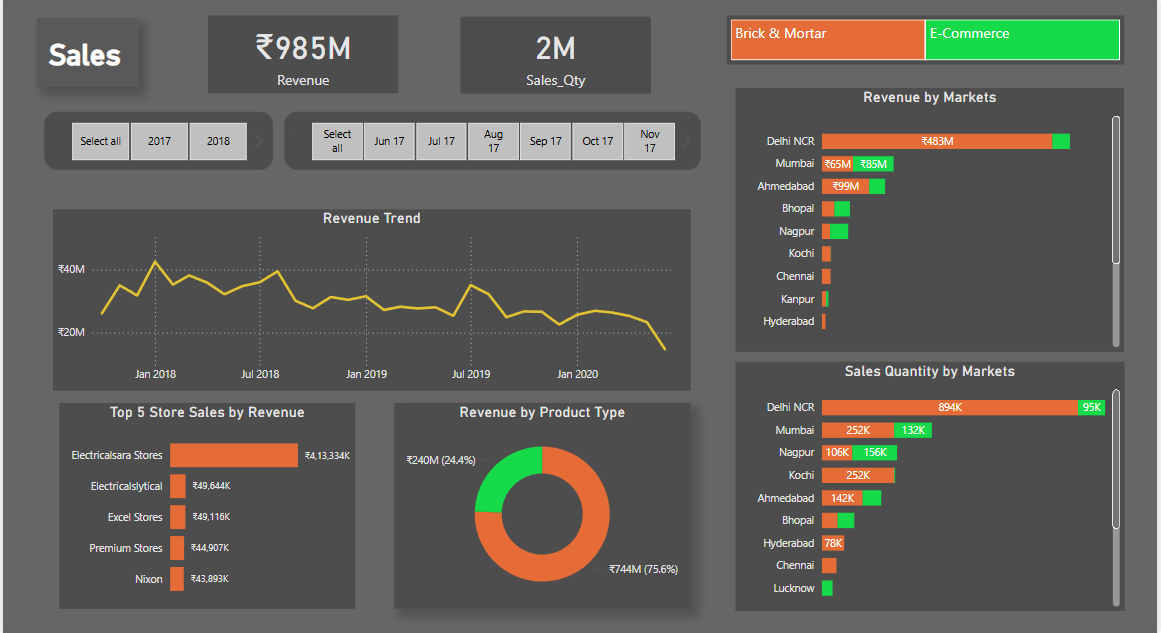

The page's visual inventory and layout, read from the dashboard file:
{"tool":"powerbi","page":{"name":"Sales Insights","canvas":[1319,727],"ordinal":0},"visuals":[{"type":"card","fields":{"Values":["base measures.revenue"]},"box":[233.8,20.7,218,88.9],"z":7000},{"type":"card","fields":{"Values":["base measures.sales_qty"]},"box":[522.4,21.9,218,87.7],"z":8000},{"type":"barChart","title":"Revenue by Markets","fields":{"Category":["sales markets.markets_name"],"Y":["base measures.revenue"],"Series":["sales customers.customer_type"]},"box":[837.1,102.9,444.3,301.4],"z":9000},{"type":"barChart","title":"Sales Quantity by Markets","fields":{"Category":["sales markets.markets_name"],"Y":["base measures.sales_qty"],"Series":["sales customers.customer_type"]},"box":[836.6,415.3,444.5,285],"z":10000},{"type":"lineChart","title":"Revenue Trend","fields":{"Y":["base measures.revenue"],"Category":["sales date.cy_date"]},"box":[57.1,241.4,728.6,207.1],"z":11000},{"type":"donutChart","title":"Revenue by Product Type","fields":{"Category":["sales customers.customer_type"],"Y":["base measures.revenue"]},"box":[446.9,462.7,338.5,235],"z":12000},{"type":"textbox","box":[38.2,24,169.7,62.2],"z":13000},{"type":"barChart","title":"Top 5 Store Sales by Revenue","fields":{"Category":["sales customers.custmer_name"],"Y":["base measures.Revenue"]},"box":[64.5,462.7,338.5,235],"z":14000},{"type":"treemap","fields":{"Values":["base measures.slicer size"],"Group":["sales customers.customer_type"]},"box":[826.9,19.5,454.2,56],"z":15000},{"type":"slicer","fields":{"Values":["sales date.cy_date"]},"box":[321.2,130,476.2,66.2],"z":16000},{"type":"slicer","fields":{"Values":["sales date.year"]},"box":[47.5,130,261.2,66.2],"z":17000},{"type":"textbox","box":[38.4,22.3,115.2,79.3],"z":18000}]}

Visuals, with their boxes in screenshot pixels (x1, y1, x2, y2), scaled from the page's 1319x727 canvas onto the 1161x633 screenshot:
card - base measures.revenue: [206, 18, 398, 95]
card - base measures.sales_qty: [460, 19, 652, 95]
"Revenue by Markets" barChart: [737, 90, 1128, 352]
"Sales Quantity by Markets" barChart: [736, 362, 1128, 610]
"Revenue Trend" lineChart: [50, 210, 692, 391]
"Revenue by Product Type" donutChart: [393, 403, 691, 607]
textbox: [34, 21, 183, 75]
"Top 5 Store Sales by Revenue" barChart: [57, 403, 355, 607]
treemap - base measures.slicer size x sales customers.customer_type: [728, 17, 1128, 66]
slicer - sales date.cy_date: [283, 113, 702, 171]
slicer - sales date.year: [42, 113, 272, 171]
textbox: [34, 19, 135, 88]
